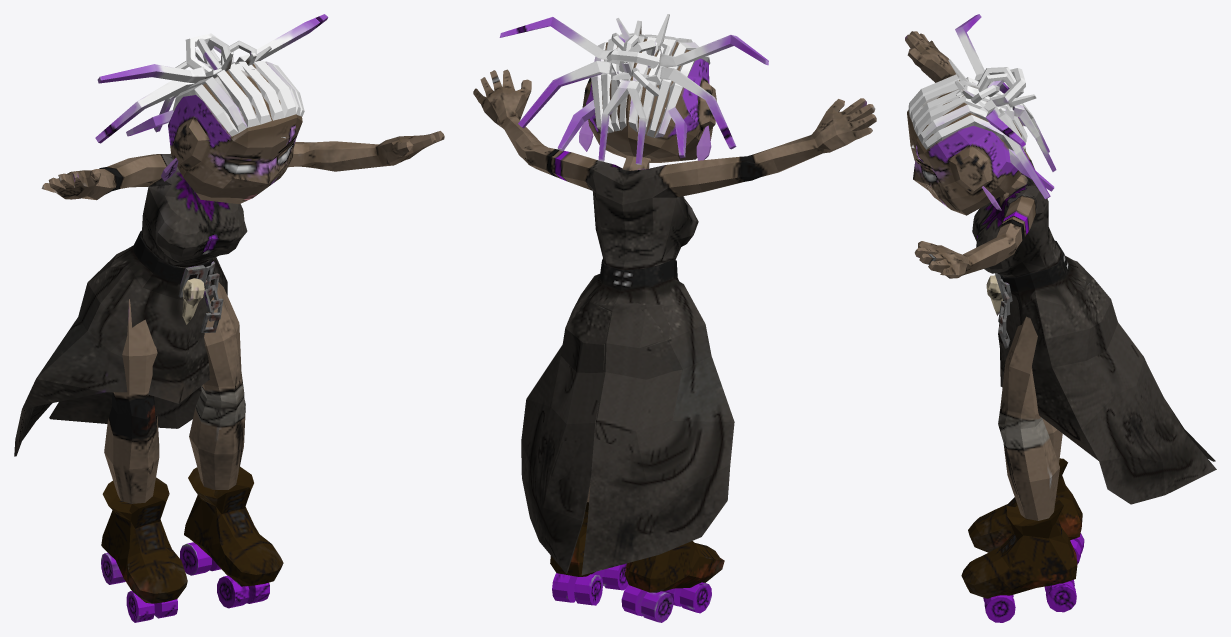
Rendered from bruja_000181.obj.
The picture shows the model from 3 angles, left to right: view 1: azimuth 30°, elevation 25°; view 2: azimuth 150°, elevation 25°; view 3: azimuth 270°, elevation 25°; orthographic projection. The views are drawn at different scales.
Visible parts, largest first — view 1: Bruja_Plane.001; view 2: Bruja_Plane.001; view 3: Bruja_Plane.001.
Boxes of the visible parts, x1,y1,x2,y2 form: Bruja_Plane.001: (14, 14, 444, 622); Bruja_Plane.001: (473, 14, 876, 622); Bruja_Plane.001: (905, 14, 1216, 622).
Size of the model in its own units: 11.78 by 16.2 by 8.5.
